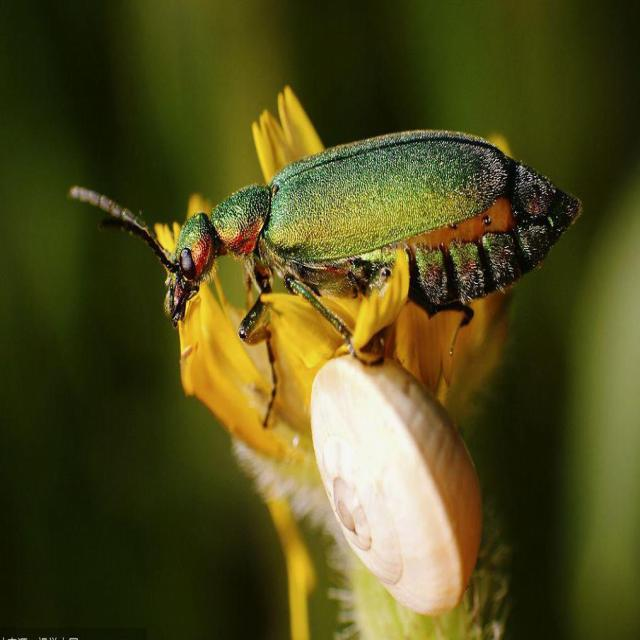BlisterBeetle-Adult-: (57, 121, 589, 370)
